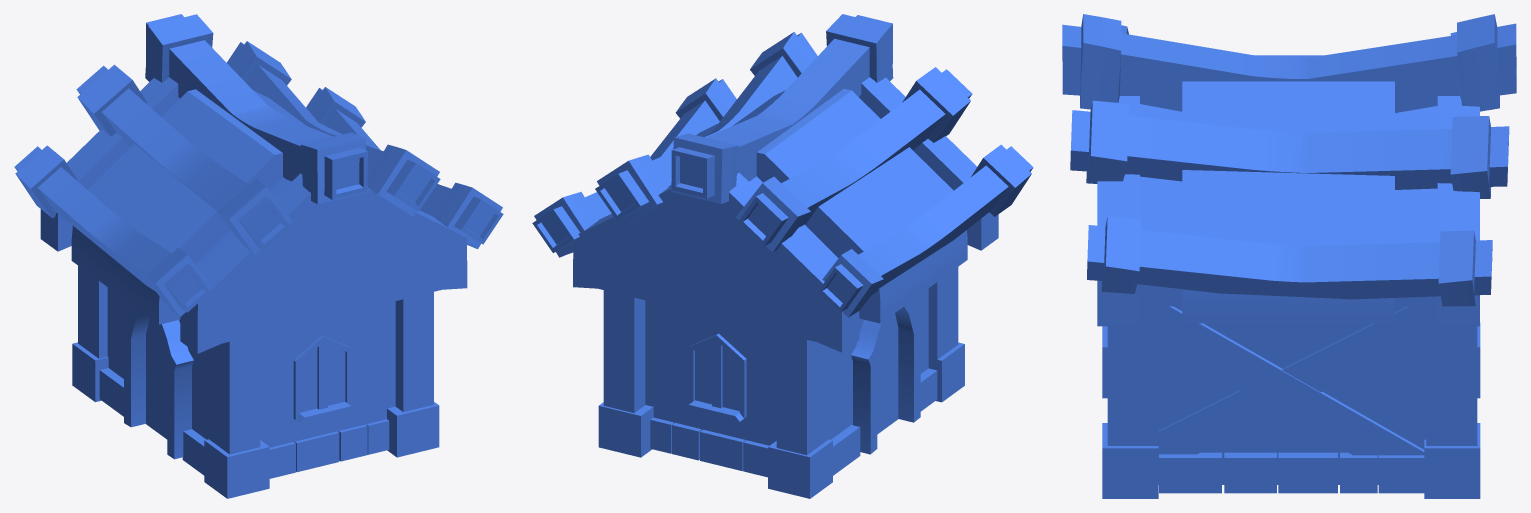
The model's file is House_Variant7.fbx.
The picture shows the model from 3 angles, left to right: view 1: azimuth 30°, elevation 25°; view 2: azimuth 150°, elevation 25°; view 3: azimuth 270°, elevation 25°; orthographic projection. The views are drawn at different scales.
Visible parts, largest first — view 1: House_Variant7; view 2: House_Variant7; view 3: House_Variant7.
Boxes of the visible parts, x1=… form: House_Variant7: x1=14, y1=14, x2=503, y2=498; House_Variant7: x1=532, y1=14, x2=1033, y2=498; House_Variant7: x1=1062, y1=14, x2=1516, y2=498.
Size of the model in its own units: 331 by 303 by 306.
